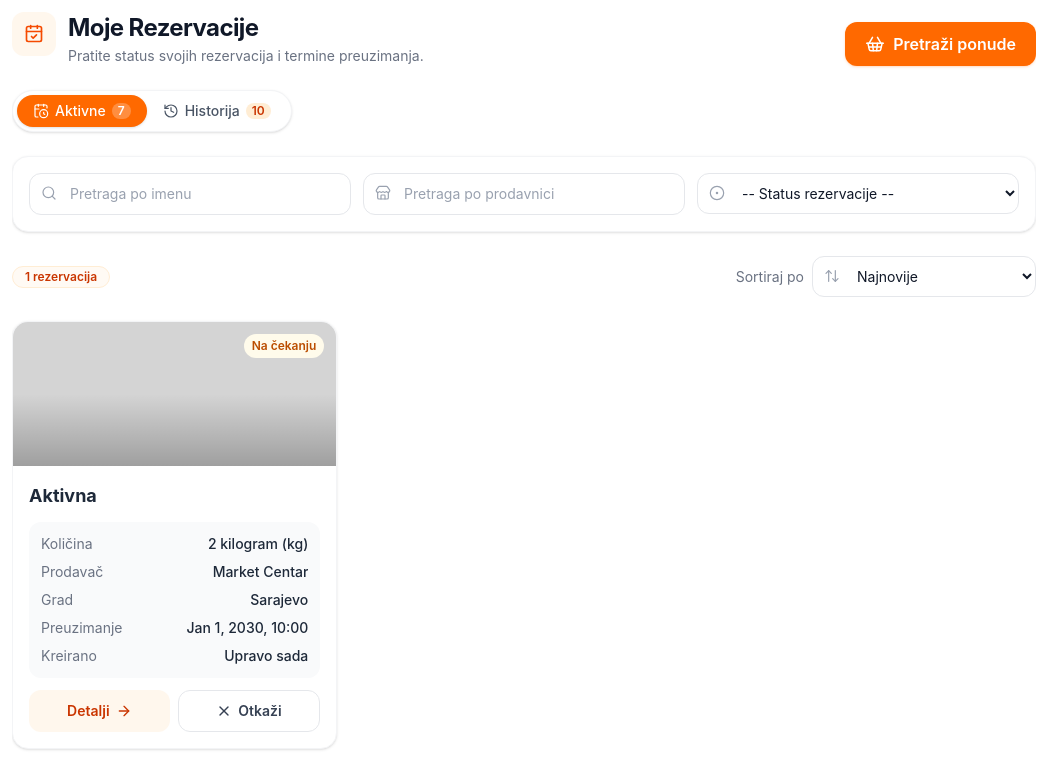
Test: MyReservationsPage › History › shows the loading state, not the Active list, while History loads, and ignores a late Active response
Expected: the heading "Aktivna" is shown, [29,485,97,506]
Click the tab "Historija 10". click: (217, 111)
box: [147,95,287,127]
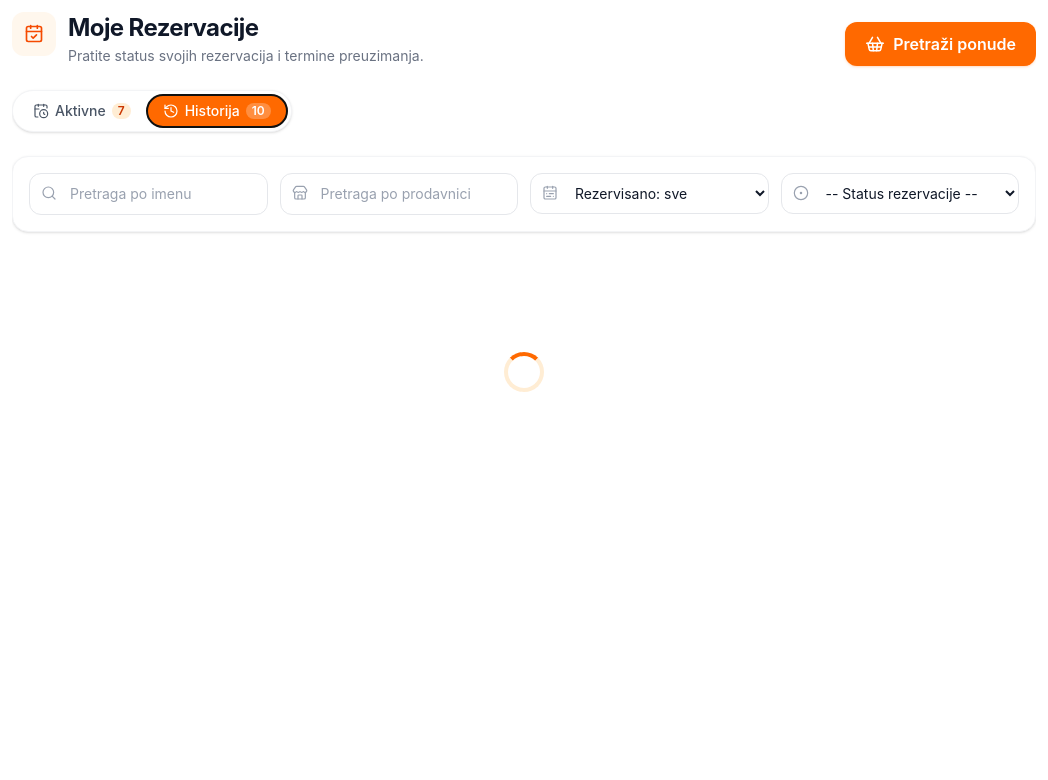
Expected: the heading "Aktivna" is gone
Expected: the message is shown, [504,352,544,392]
Click the tab "Aktivne 7". click: (82, 111)
box: [17,95,147,127]
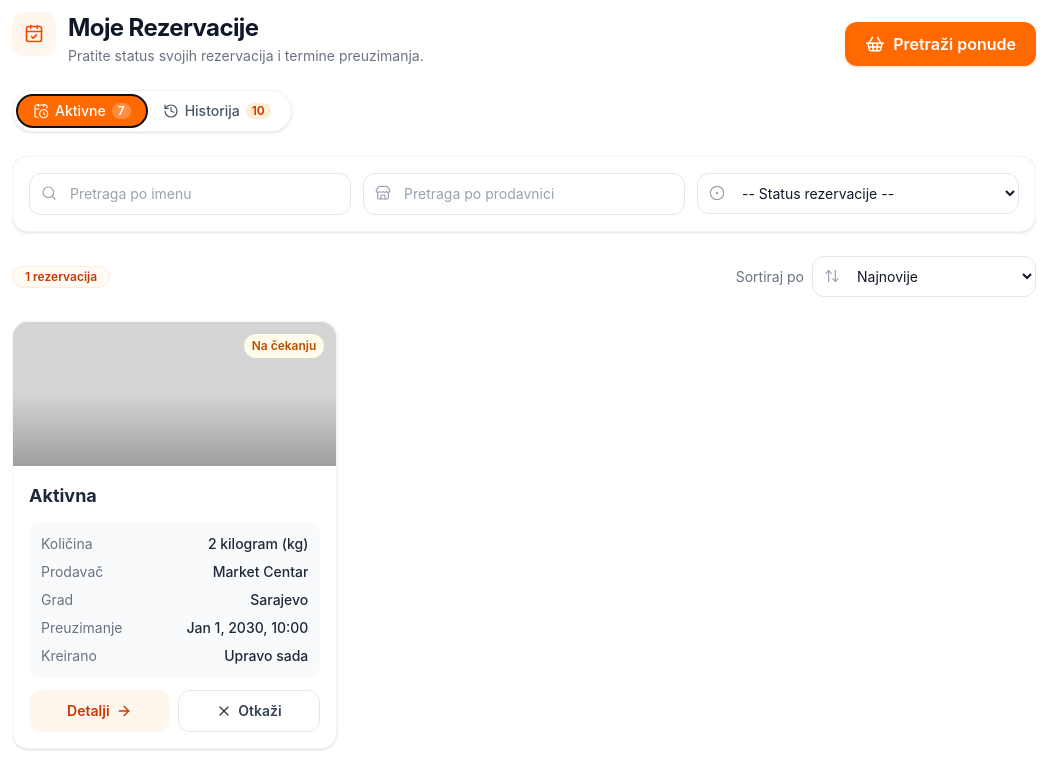
Expected: the heading "Aktivna" is shown, [29,485,97,506]
